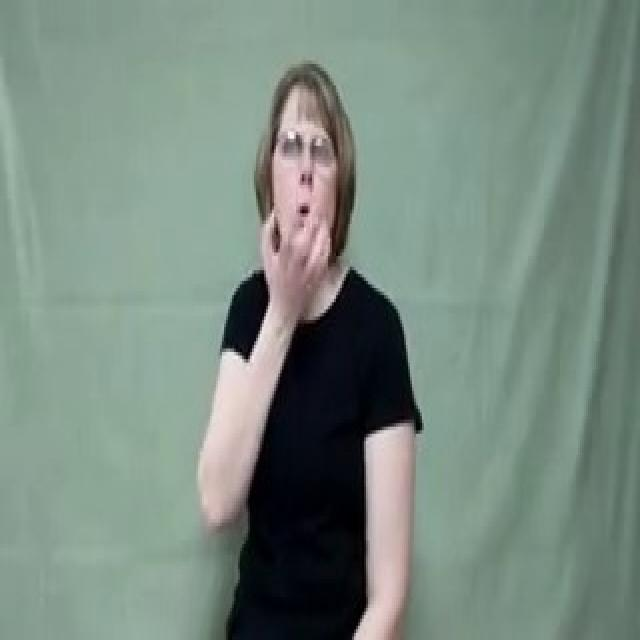warm: (260, 196, 334, 314)
